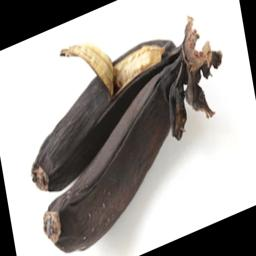Banana Rotten: (19, 38, 251, 256)
